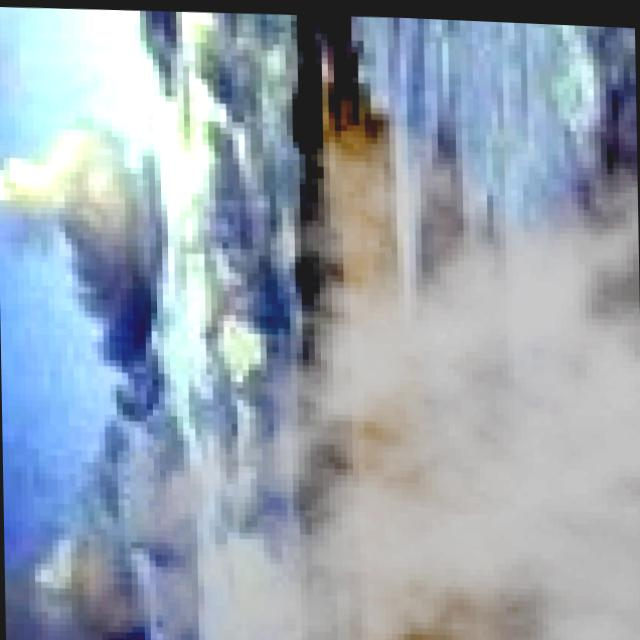smoke: (84, 15, 640, 640)
